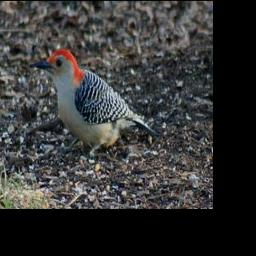Woodpecker: (31, 50, 154, 166)
